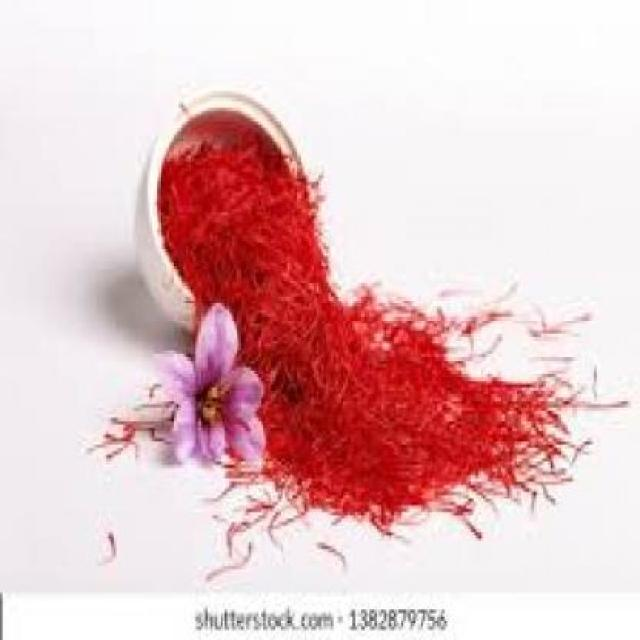saffron open: (158, 304, 265, 463)
